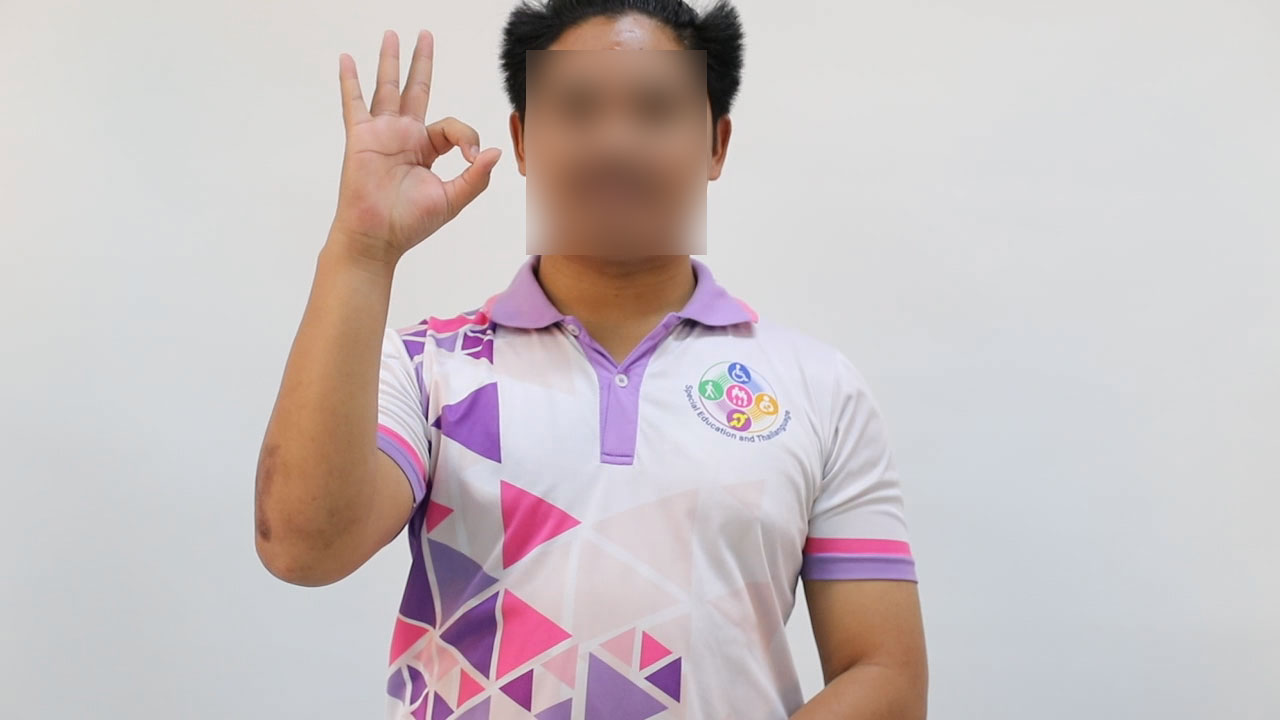for: (303, 16, 508, 260)
